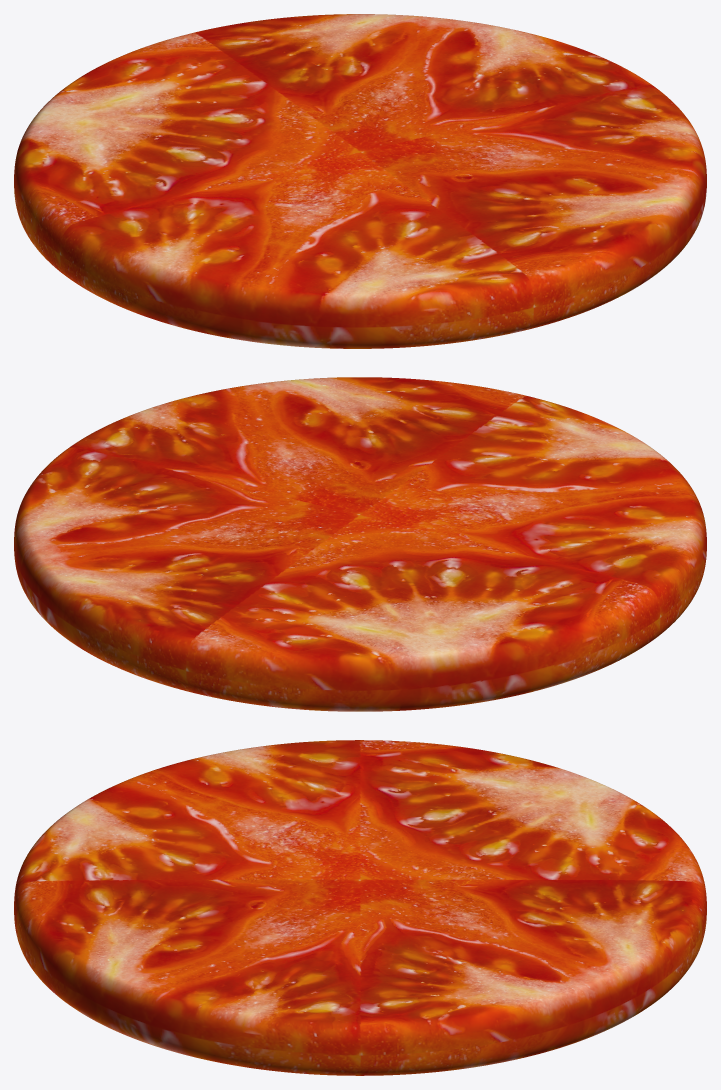
The model's file is tomato.glb.
The picture shows the model from 3 angles, top to bottom: view 1: azimuth 30°, elevation 25°; view 2: azimuth 150°, elevation 25°; view 3: azimuth 270°, elevation 25°; orthographic projection.
Parts seen in each view (by area): view 1: Cylinder; view 2: Cylinder; view 3: Cylinder.
Boxes of the visible parts, bbox=[...] form: Cylinder: bbox=[14, 14, 706, 348]; Cylinder: bbox=[14, 377, 706, 711]; Cylinder: bbox=[14, 740, 706, 1075].
Bounding box in the file's own units: 1.91 × 0.1783 × 1.91.
Materials: 1 (1 with a texture image).
